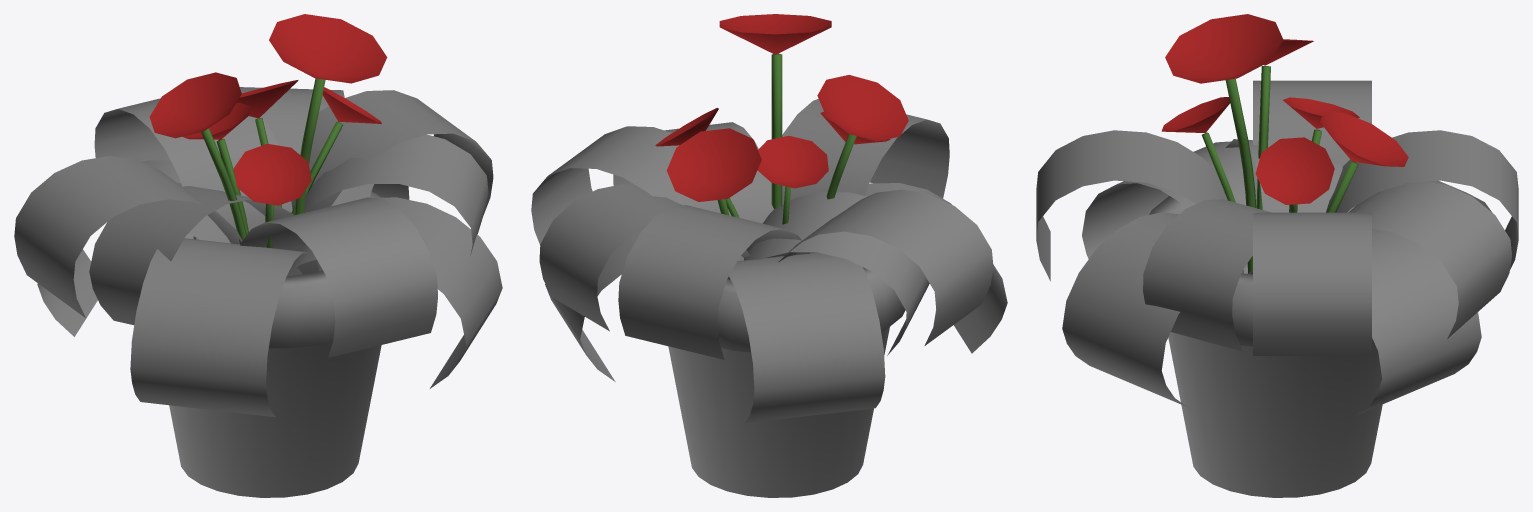
Rendered from SM_flowerpot_01.fbx.
3 renders of one model, left to right at view 1: azimuth 30°, elevation 25°; view 2: azimuth 150°, elevation 25°; view 3: azimuth 270°, elevation 25°, orthographic. The views are drawn at different scales.
Visible parts, largest first — view 1: Object342685; view 2: Object342685; view 3: Object342685.
Boxes of the visible parts, left/top/right/bottom form: Object342685: left=14, top=14, right=502, bottom=497; Object342685: left=531, top=14, right=1007, bottom=497; Object342685: left=1036, top=14, right=1518, bottom=497.
Bounding box in the file's own units: 32.22 × 32.23 × 32.
